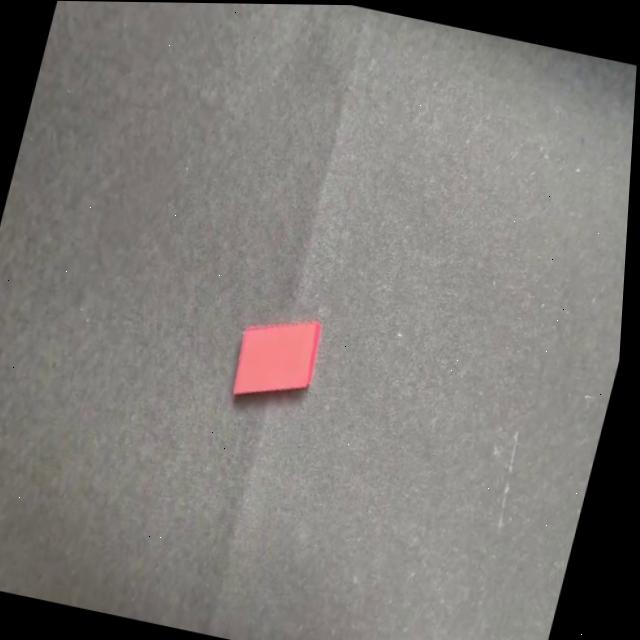red block: (224, 307, 327, 412)
